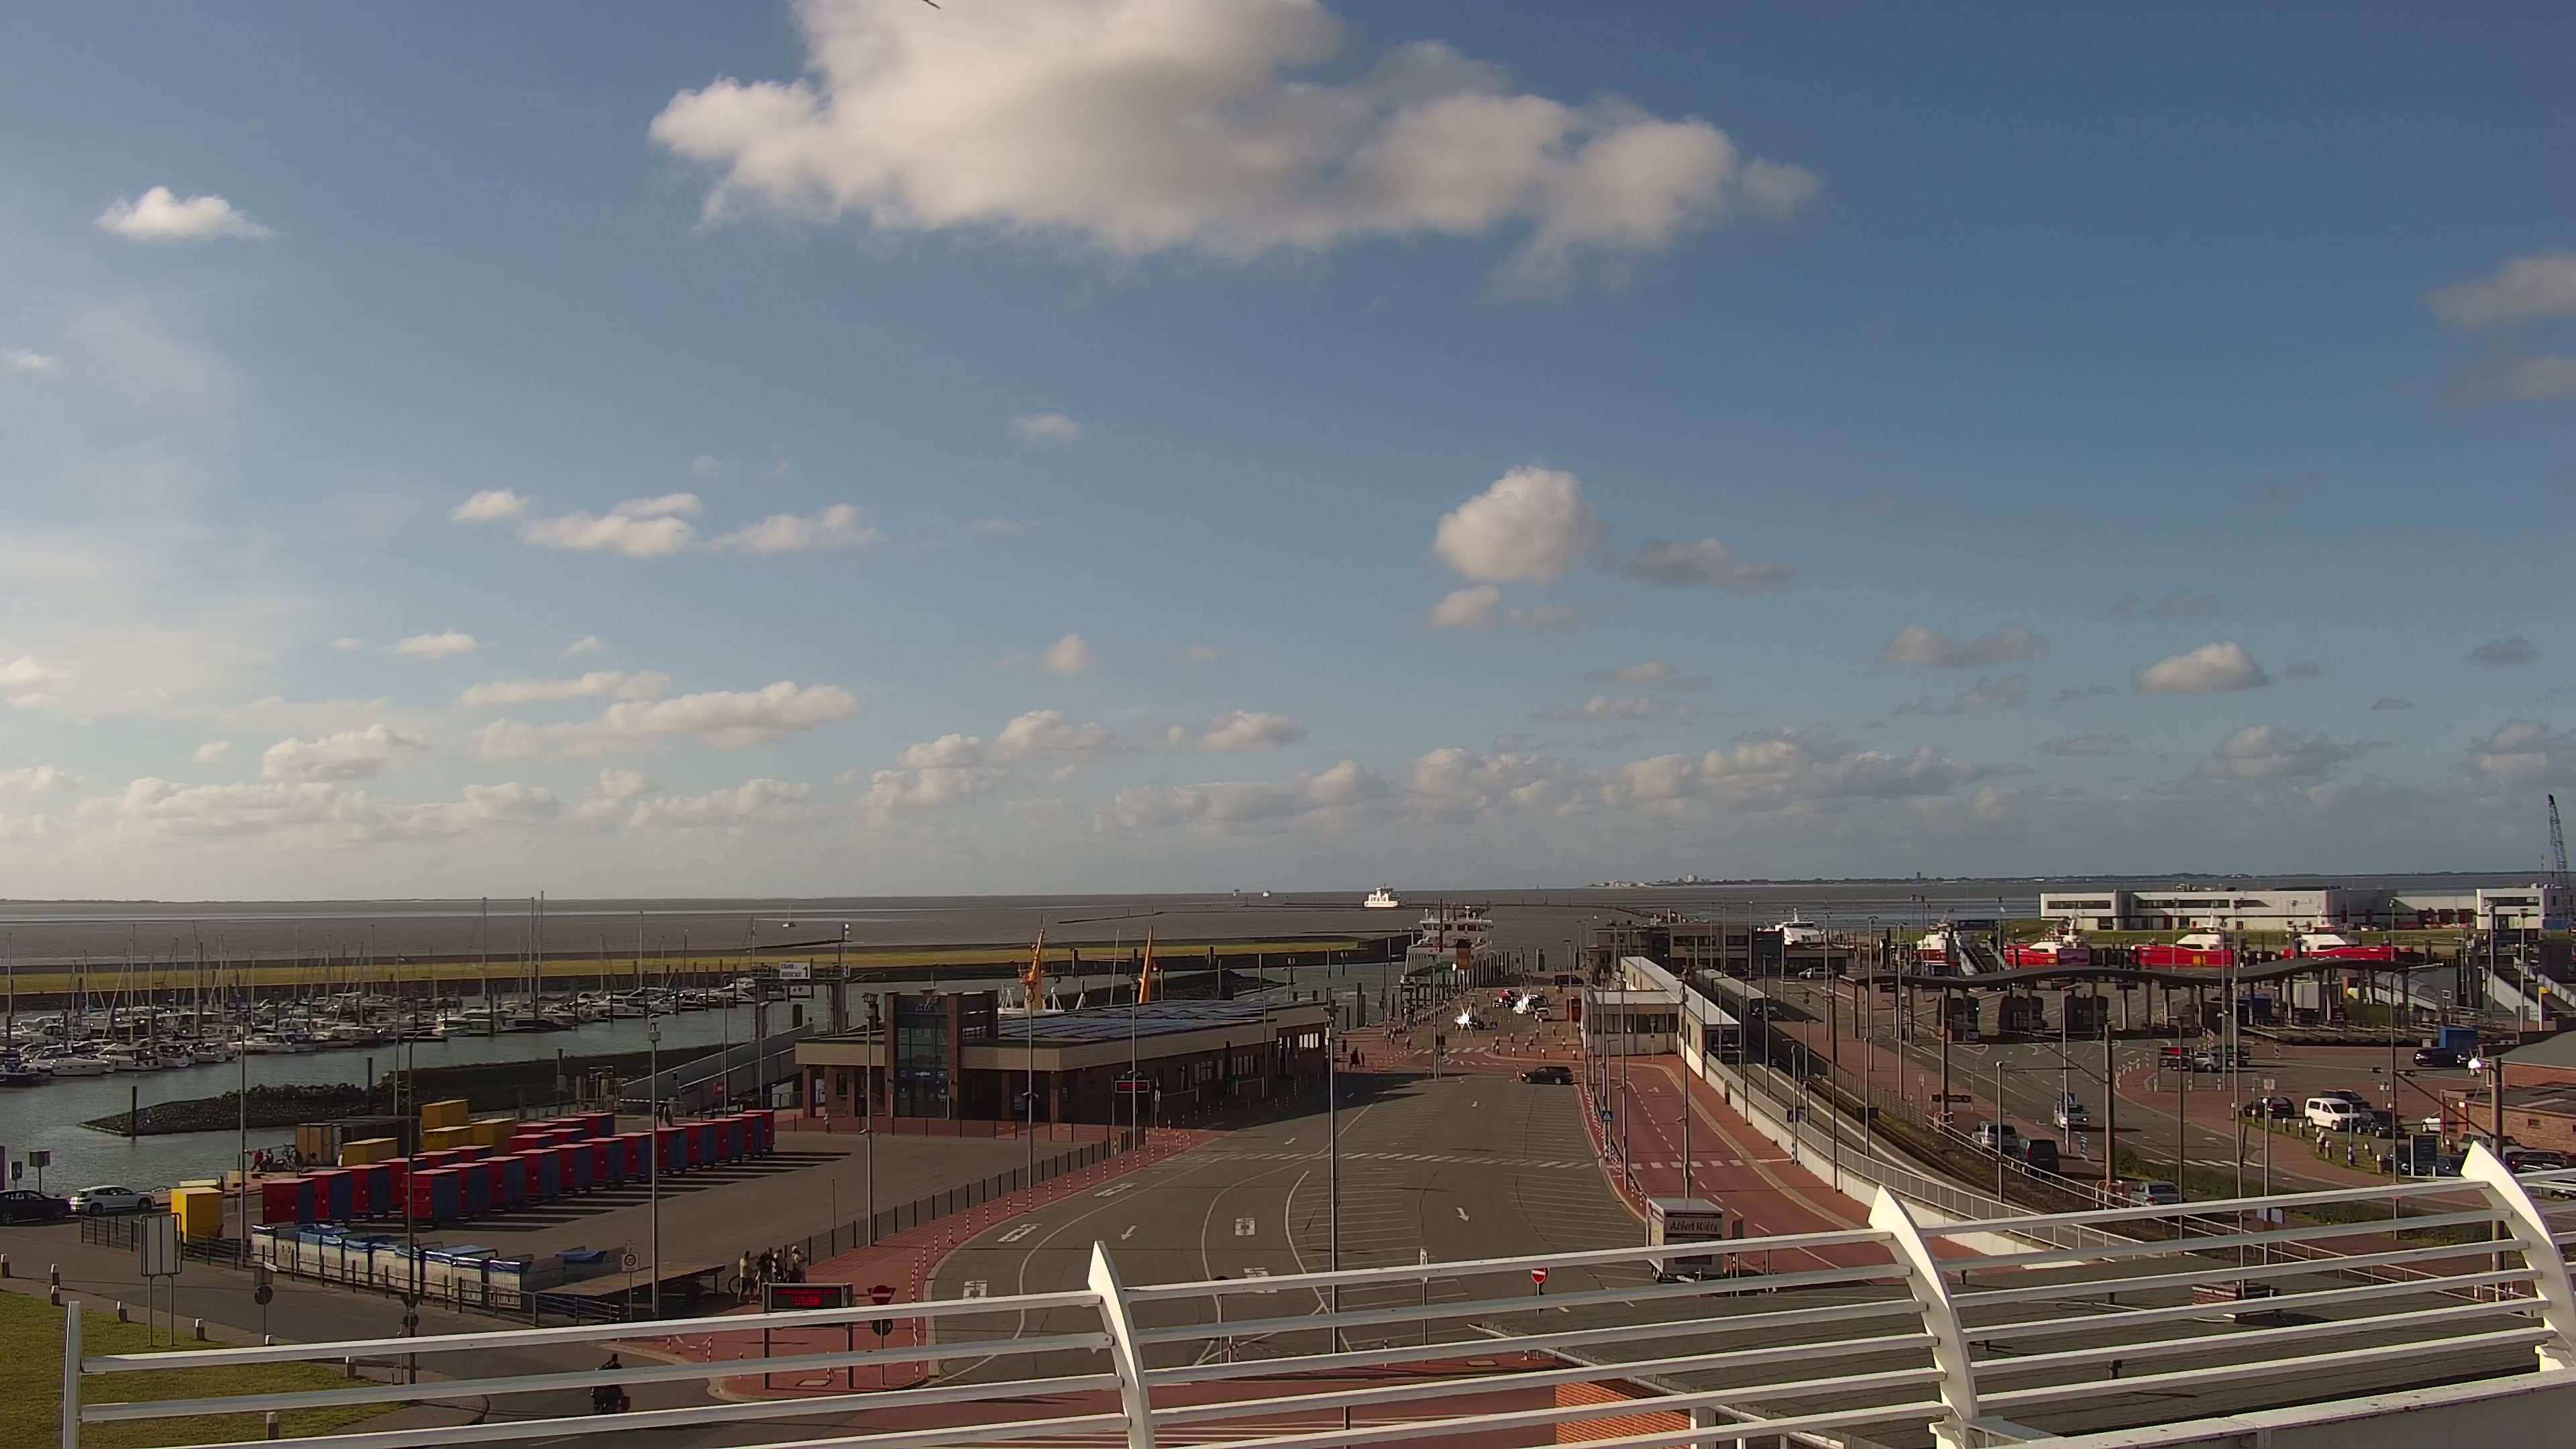human: (590, 1351, 625, 1395), (735, 1251, 757, 1305), (755, 1246, 776, 1298), (790, 1244, 808, 1283), (770, 1246, 785, 1283), (250, 1148, 264, 1173), (260, 1146, 273, 1173), (822, 1112, 832, 1134), (1352, 1046, 1359, 1068), (1907, 1092, 1914, 1108), (1960, 1268, 1968, 1284), (1360, 1050, 1366, 1067)
land: (68, 1184, 156, 1216), (1, 1188, 67, 1224), (2457, 1130, 2526, 1163), (2011, 1136, 2059, 1179), (2304, 1095, 2359, 1130), (2128, 1179, 2188, 1206), (2504, 1149, 2569, 1174), (1970, 1119, 2019, 1152), (2383, 1143, 2427, 1175), (2358, 1108, 2405, 1138), (2318, 1087, 2371, 1110), (2051, 1101, 2092, 1130), (592, 1383, 629, 1414), (2243, 1095, 2295, 1118), (1519, 1064, 1572, 1085), (2169, 1050, 2221, 1071), (2412, 1046, 2457, 1067), (2208, 1043, 2249, 1066), (2432, 1153, 2467, 1177), (1797, 965, 1835, 981), (2455, 1047, 2481, 1069), (1452, 1014, 1485, 1030), (2421, 1110, 2442, 1132), (2466, 1055, 2482, 1077), (1491, 995, 1515, 1008), (1554, 974, 1585, 986), (1510, 1001, 1536, 1014), (1525, 994, 1547, 1006), (1535, 1006, 1552, 1022), (1503, 988, 1520, 1000)
sea: (1399, 898, 1495, 1011), (499, 890, 566, 1032), (2277, 905, 2414, 957), (2127, 904, 2238, 966), (438, 896, 494, 1018), (490, 896, 543, 1019), (2002, 910, 2091, 966), (1901, 906, 1966, 965), (578, 933, 628, 1004), (608, 910, 643, 999), (660, 928, 701, 1005), (19, 1045, 111, 1077), (726, 916, 761, 987), (89, 1043, 162, 1070), (127, 1038, 188, 1068), (645, 935, 674, 997), (437, 1008, 514, 1031), (1779, 906, 1822, 945), (225, 1030, 296, 1053), (590, 991, 645, 1015), (1362, 882, 1407, 909), (13, 1022, 66, 1043), (180, 1040, 227, 1063), (1, 1061, 40, 1086), (330, 1026, 380, 1045), (712, 979, 757, 1000), (294, 1029, 319, 1053), (647, 997, 678, 1014), (780, 904, 796, 927), (1231, 886, 1240, 897), (1260, 890, 1271, 897)
